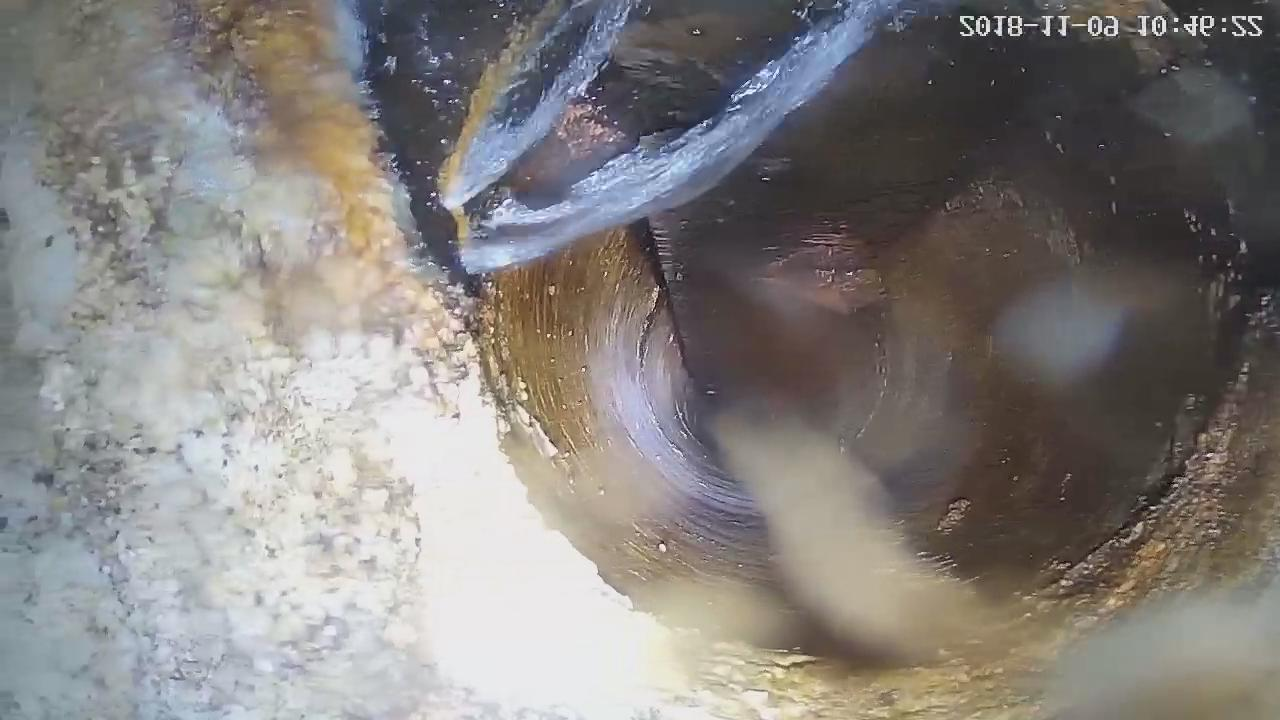SL: (323, 2, 934, 333)
